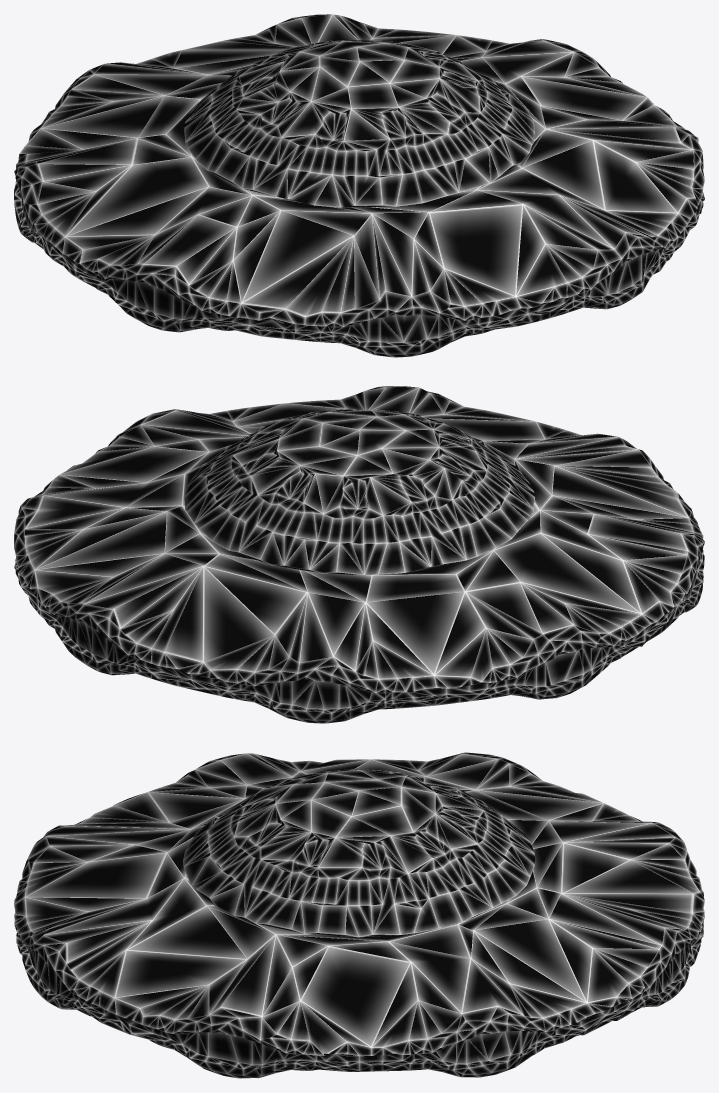
Rendered from frame_029.obj.
3 views of the same model, one above another, from view 1: azimuth 30°, elevation 25°; view 2: azimuth 150°, elevation 25°; view 3: azimuth 270°, elevation 25° (orthographic).
Parts seen in each view (by area): view 1: 13884_UFO_Saucer_v1_l2; view 2: 13884_UFO_Saucer_v1_l2; view 3: 13884_UFO_Saucer_v1_l2.
Part boxes in pixels (box(x1,y1,x2,y2)): 13884_UFO_Saucer_v1_l2: box(14, 14, 704, 357); 13884_UFO_Saucer_v1_l2: box(14, 386, 704, 723); 13884_UFO_Saucer_v1_l2: box(14, 752, 704, 1078).
Size of the model in its own units: 12.69 by 4.88 by 12.7.
Materials: 1 (1 with a texture image).
